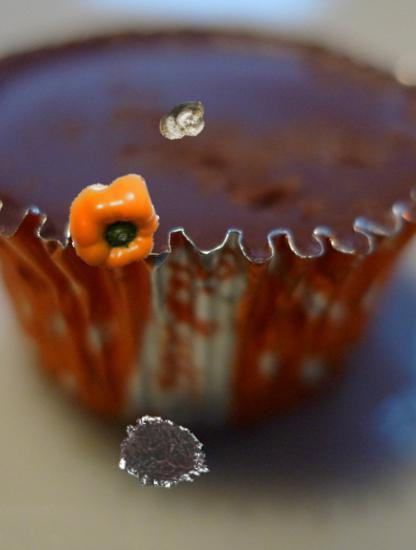Ginger: (159, 97, 210, 148)
Pepper: (68, 178, 160, 270)
Rambutan: (118, 405, 214, 501)
